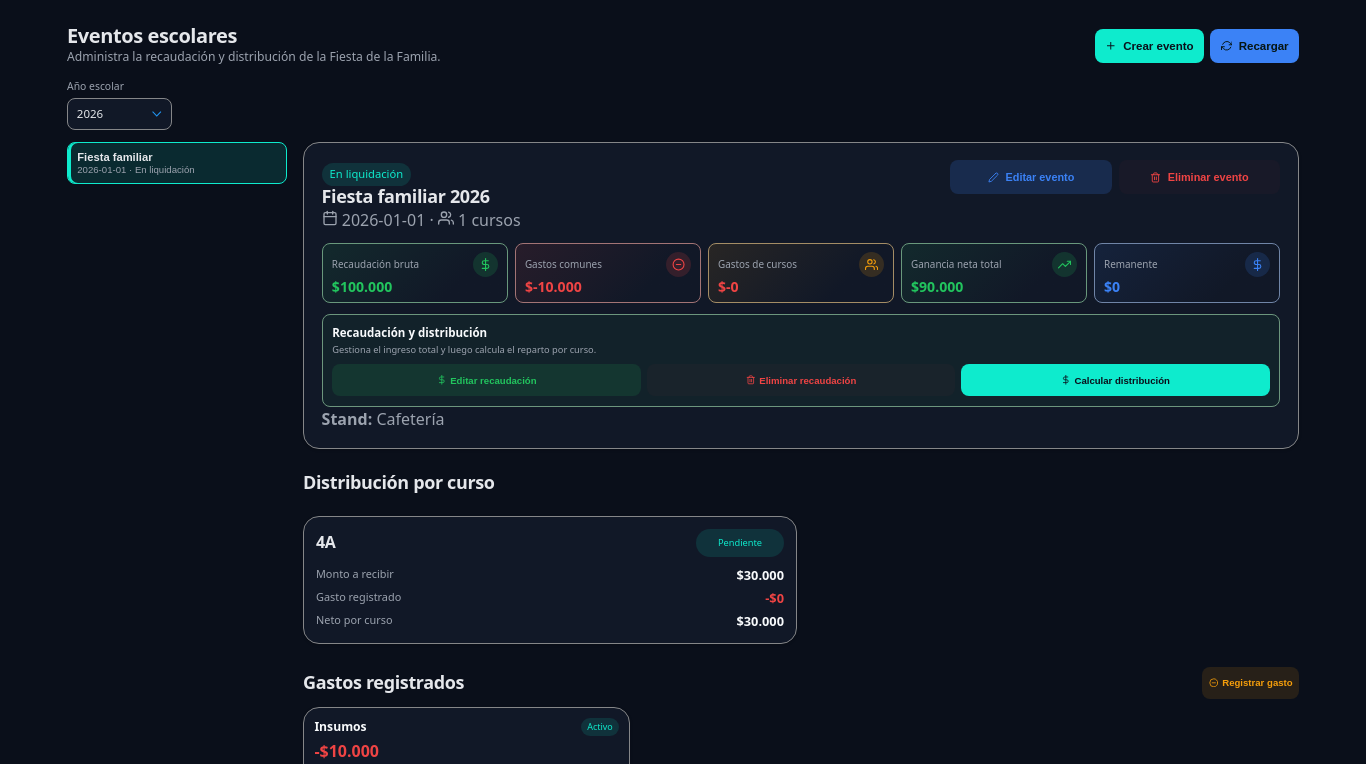
Scenario: school events connected to HTTP › preserves the event form and shows server validation or fallback on rejection: {}
Click the button "Editar evento": (1031, 177) left=950, top=160, right=1112, bottom=194
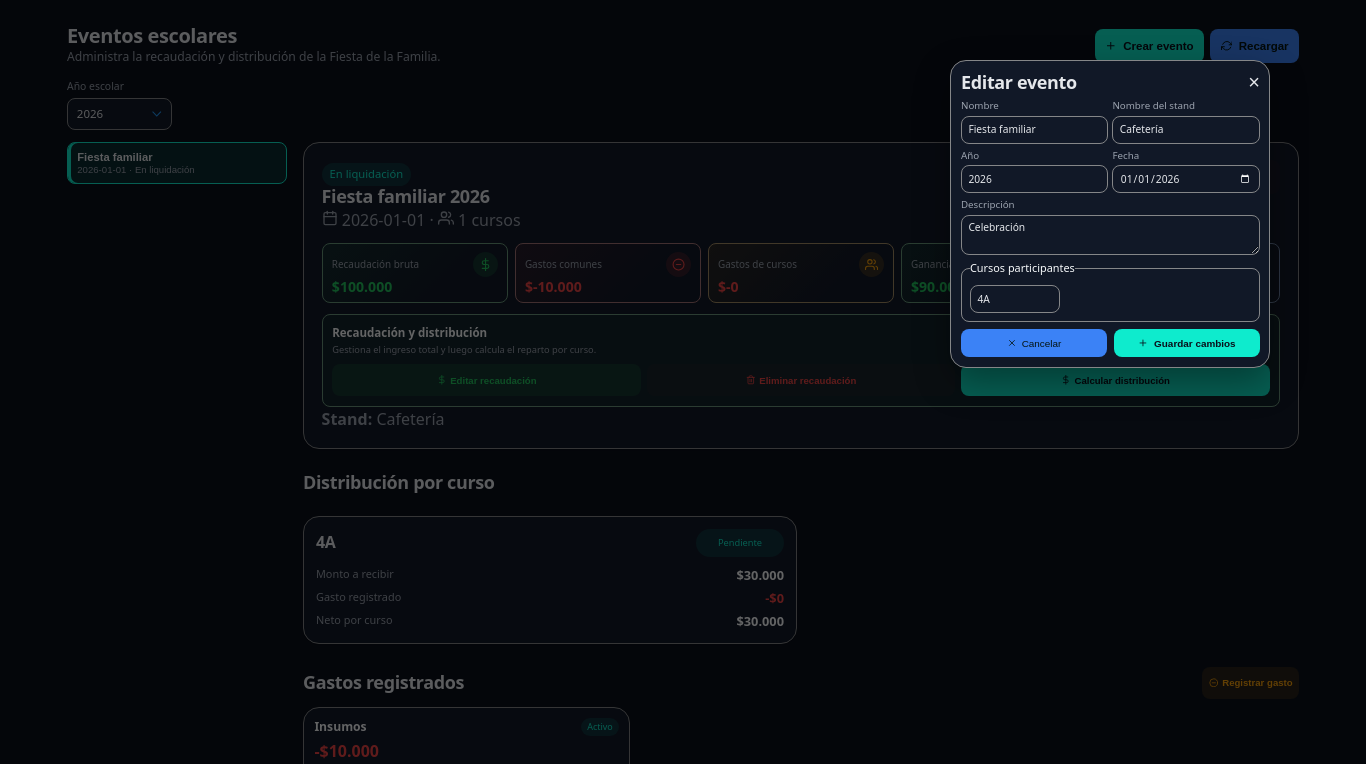
Click the button "Guardar cambios": (1187, 343) left=1114, top=329, right=1260, bottom=357
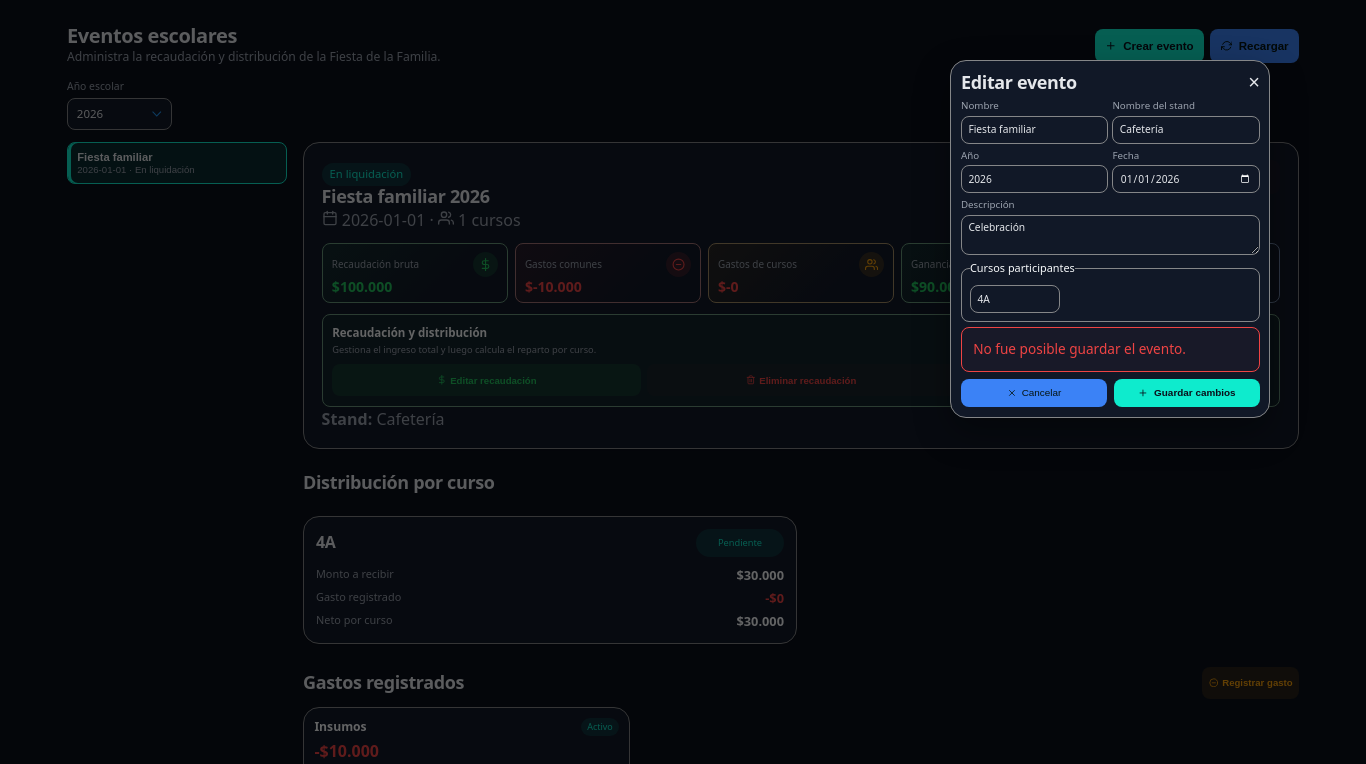
Expected: the field labelled "Nombre" holds "Fiesta familiar", left=961, top=116, right=1108, bottom=144
Expected: the message "No fue posible guardar el evento." is shown, left=961, top=327, right=1260, bottom=372
Expected: the message reads "No fue posible guardar el evento.", left=973, top=339, right=1186, bottom=358
